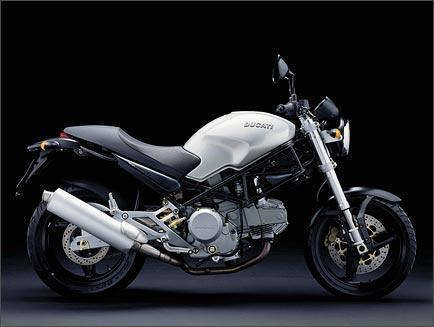motorcycle: (14, 46, 428, 309)
